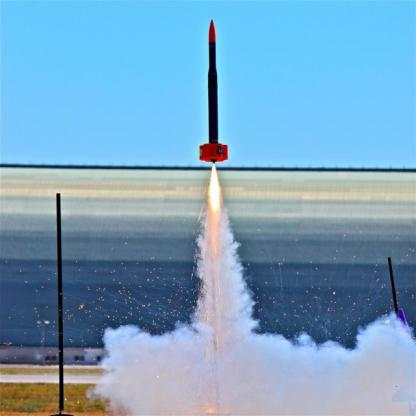MIL_TBM: (198, 18, 228, 162)
